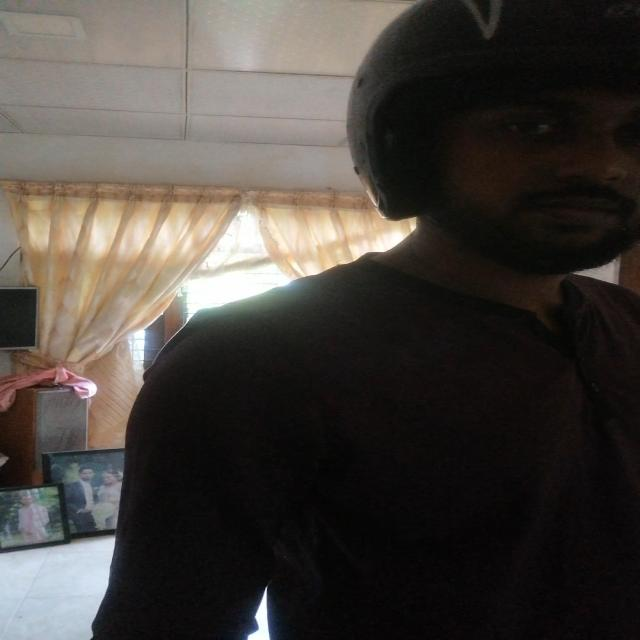Helmet_Wearer: (293, 0, 640, 308)
Person: (146, 0, 640, 640)
